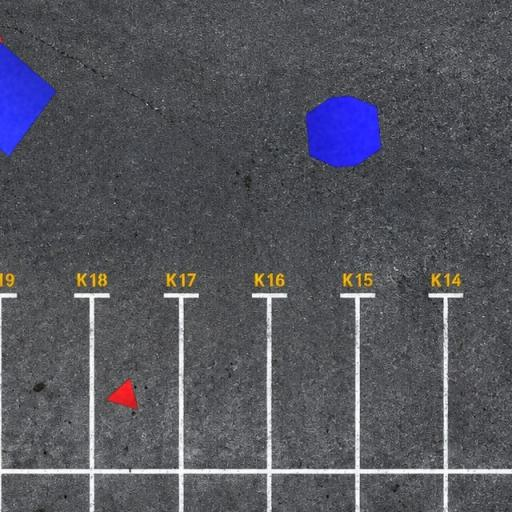BLUE_SQUARE: (0, 41, 58, 157)
